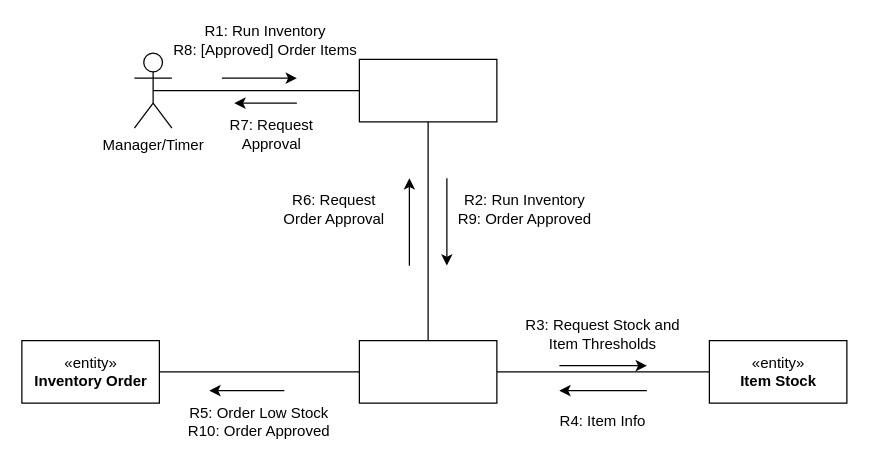
Image size: 869x461. Some labels were removed from this diagram. The shapes that lost their labels are listed below. From the top down, each one's box as (x1, y1, x2, y2) in pixels, then its label:
(358, 58, 497, 122): «interface» Manager Interface
(358, 339, 497, 403): «control» Inventory Control
